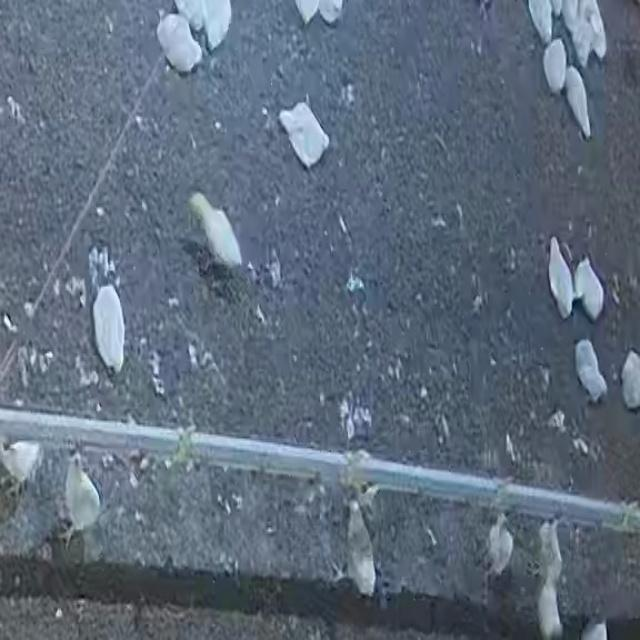chicken: (189, 190, 245, 271), (278, 101, 333, 161), (345, 496, 377, 597), (64, 457, 103, 538), (92, 284, 127, 372), (156, 14, 202, 73), (546, 236, 576, 320), (573, 338, 607, 404), (575, 256, 606, 322), (564, 64, 592, 137), (543, 38, 568, 92)
